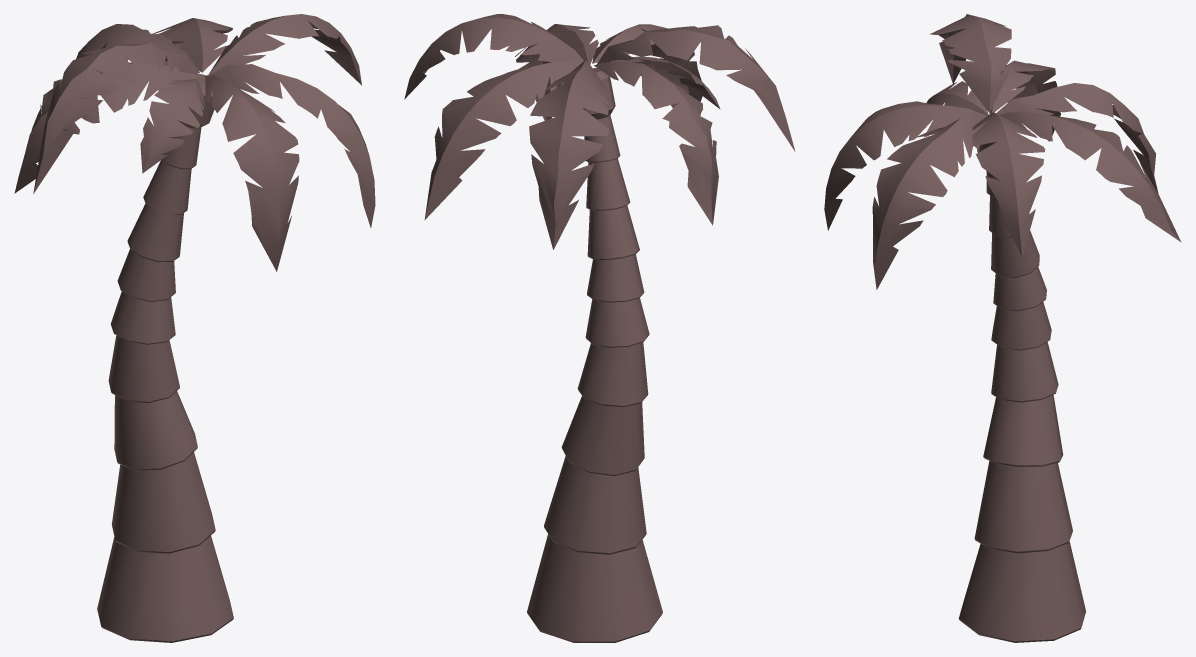
File: Big_palm.fbx
3 views of the same model, side by side, from view 1: azimuth 30°, elevation 25°; view 2: azimuth 150°, elevation 25°; view 3: azimuth 270°, elevation 25° (orthographic). The views are drawn at different scales.
Parts seen in each view (by area): view 1: Trees; view 2: Trees; view 3: Trees.
Boxes of the visible parts, x1=… form: Trees: x1=14, y1=14, x2=375, y2=642; Trees: x1=404, y1=14, x2=795, y2=642; Trees: x1=824, y1=14, x2=1181, y2=642.
Bounding box in the file's own units: 32.49 × 51.38 × 29.52.
